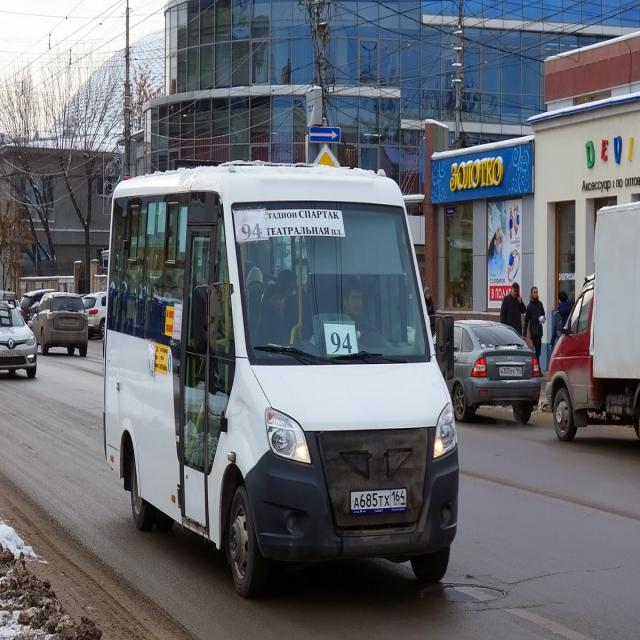number-of-bus: (329, 326, 358, 356), (241, 219, 265, 243)
